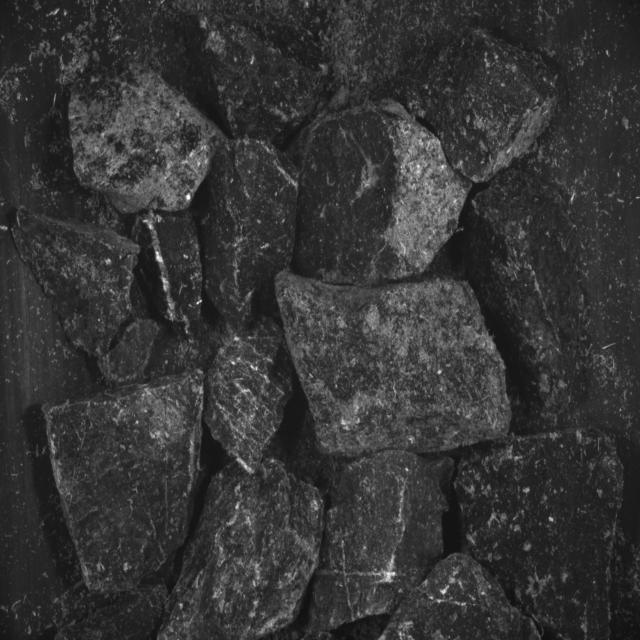Stones: (276, 273, 511, 458), (45, 371, 205, 594), (456, 430, 624, 640), (465, 170, 591, 433), (295, 101, 472, 286), (160, 461, 325, 640), (311, 452, 455, 631), (396, 31, 559, 183), (70, 66, 224, 215), (12, 208, 141, 357), (202, 139, 299, 322), (199, 15, 321, 147), (382, 555, 541, 640), (205, 319, 292, 472), (134, 211, 204, 324), (99, 319, 160, 385)
